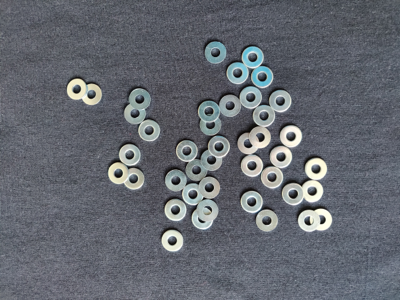circle: (217, 93, 243, 119), (118, 141, 143, 168), (254, 208, 280, 233), (160, 227, 185, 252), (128, 85, 152, 111), (239, 85, 263, 111), (203, 41, 228, 65), (305, 156, 329, 181), (241, 191, 265, 216), (123, 166, 146, 192), (80, 82, 104, 106), (138, 119, 162, 143), (225, 61, 249, 85), (261, 166, 285, 190), (174, 139, 198, 163), (164, 168, 188, 192), (164, 199, 188, 223), (252, 105, 277, 128), (280, 124, 303, 149), (298, 209, 321, 234), (269, 146, 294, 169), (185, 159, 210, 182), (123, 102, 146, 126), (200, 149, 224, 172), (197, 101, 222, 123), (283, 182, 305, 207), (241, 46, 264, 69), (310, 209, 333, 232), (241, 154, 264, 177), (208, 135, 231, 158), (199, 176, 222, 199), (192, 208, 215, 231), (251, 66, 275, 88), (269, 90, 293, 112), (236, 133, 260, 155), (199, 115, 222, 137), (249, 127, 272, 149), (197, 200, 220, 222), (109, 162, 130, 186), (301, 181, 325, 202), (183, 184, 205, 206), (67, 79, 87, 101)
